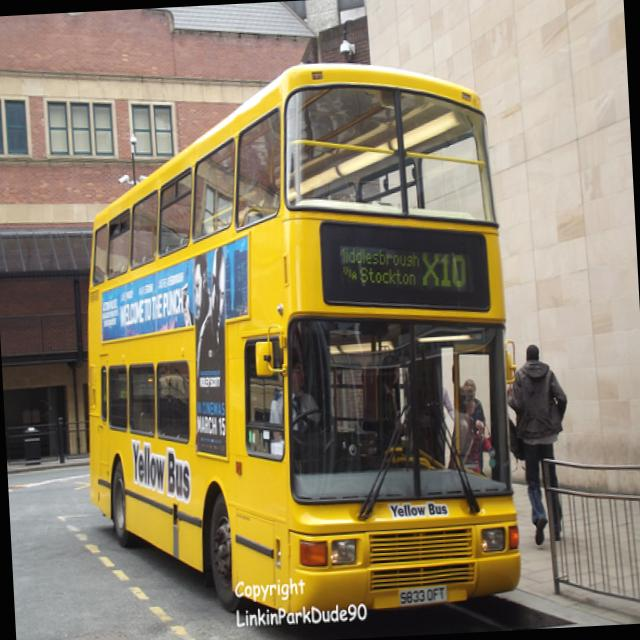Vehicle: (69, 50, 532, 636)
